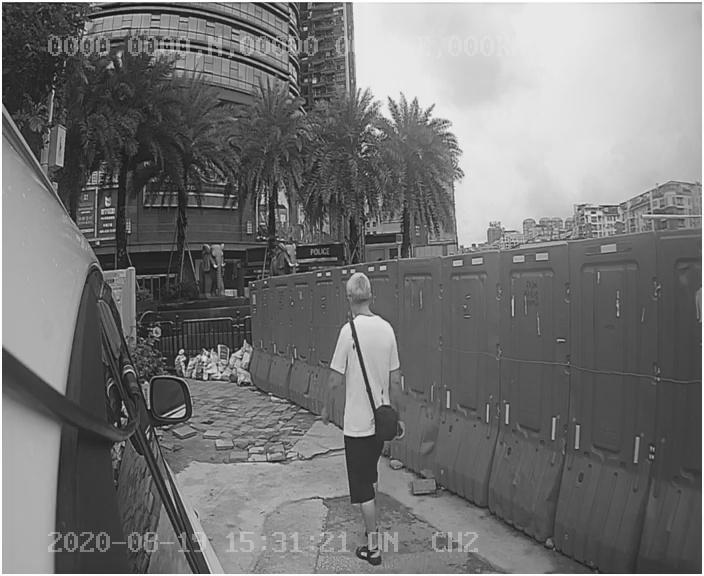person: (316, 267, 415, 566)
